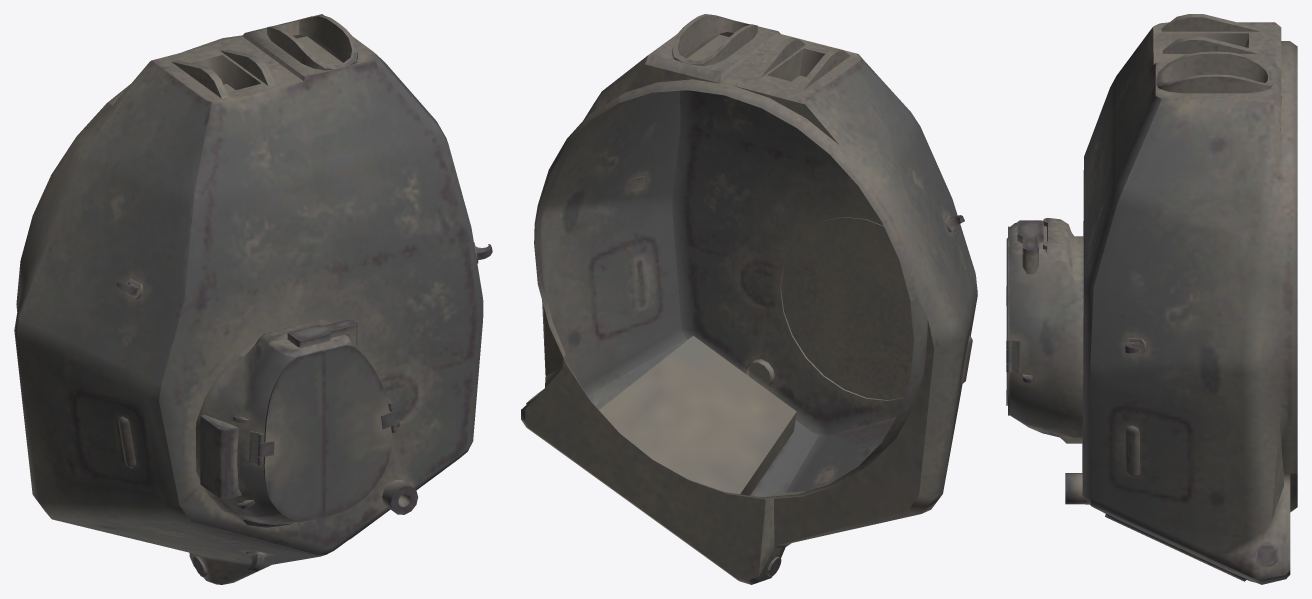
The model's file is Turret_01.glb.
The picture shows the model from 3 angles, left to right: view 1: azimuth 30°, elevation 25°; view 2: azimuth 150°, elevation 25°; view 3: azimuth 270°, elevation 25°; orthographic projection. The views are drawn at different scales.
Parts seen in each view (by area): view 1: set_0_group_0; view 2: set_0_group_0; view 3: set_0_group_0.
Boxes of the visible parts, left/top/right/bottom form: set_0_group_0: left=14, top=14, right=492, bottom=584; set_0_group_0: left=521, top=14, right=977, bottom=584; set_0_group_0: left=1006, top=14, right=1297, bottom=584.
Size of the model in its own units: 1.48 by 1.73 by 0.8298.
1 material, 1 textured.
